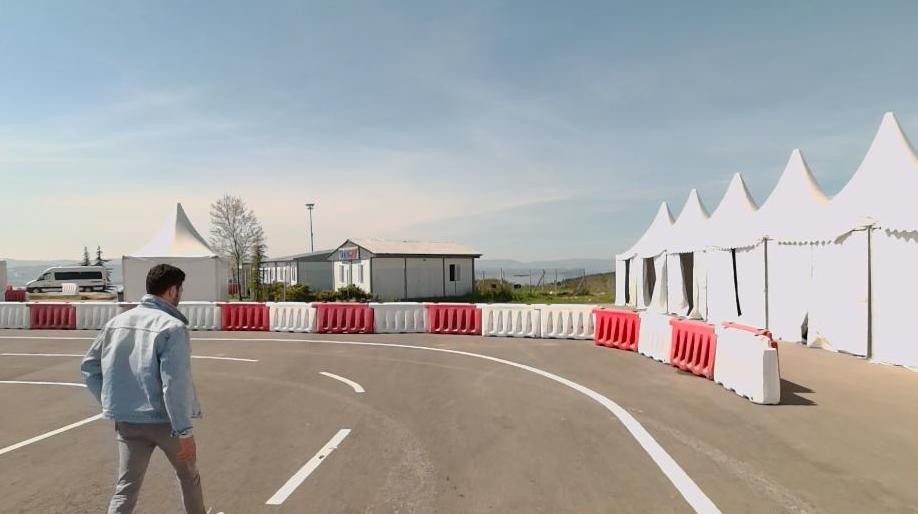nesne: (0, 333, 727, 514), (194, 335, 730, 514), (190, 336, 722, 513), (180, 301, 784, 405), (0, 349, 374, 514), (79, 264, 209, 514), (263, 428, 353, 505), (715, 322, 781, 404), (0, 412, 103, 456), (1, 300, 142, 331), (22, 263, 111, 296), (670, 320, 718, 380), (540, 303, 605, 340), (592, 307, 642, 355), (481, 302, 542, 340), (639, 312, 677, 365), (76, 302, 141, 331), (318, 300, 373, 334), (374, 303, 435, 332), (434, 303, 483, 337), (269, 302, 316, 333), (220, 303, 269, 332), (29, 302, 77, 331), (175, 301, 219, 331), (319, 370, 368, 395), (2, 302, 31, 328), (0, 378, 87, 386), (0, 334, 96, 341), (0, 351, 84, 357), (190, 354, 257, 361)
